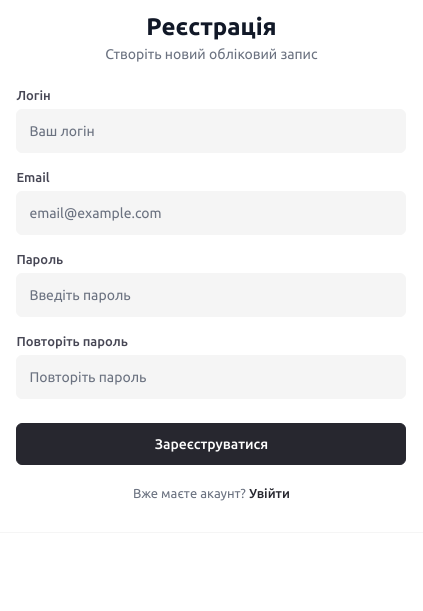
Registration › не реєструє користувача із зайнятим email
Type "testuser" into the field labelled "Логін" at (211, 131), box [16, 109, 406, 153]
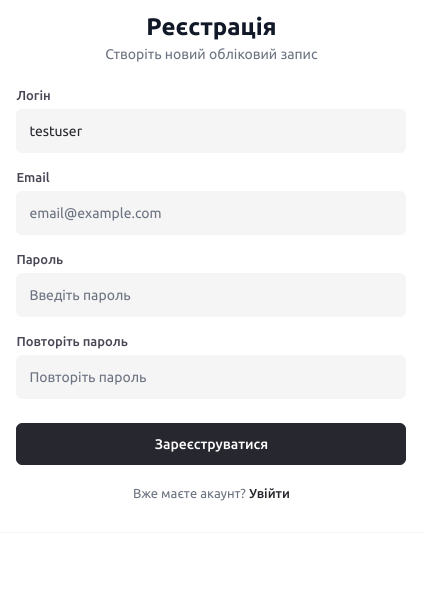
Type "test@example.com" into the field labelled "Email" at (211, 213), box [16, 191, 406, 235]
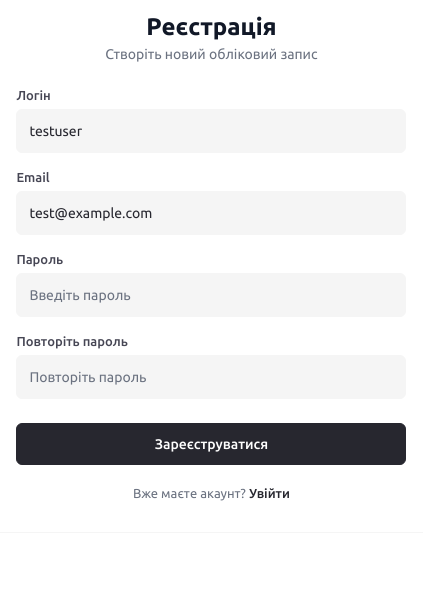
Type "Password123" into the password field labelled "Пароль" at (211, 295), box [16, 273, 406, 317]
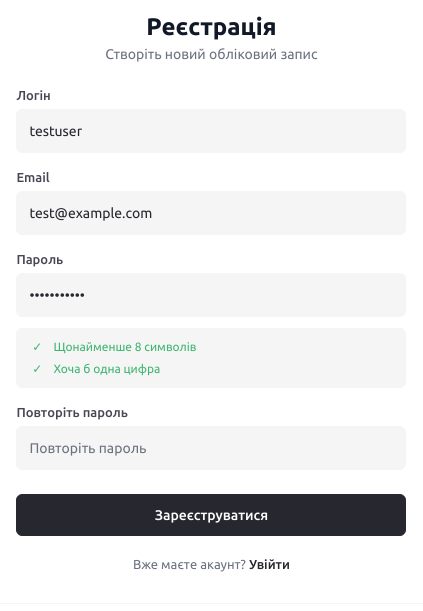
Type "Password123" into the password field labelled "Повторіть пароль" at (211, 448), box [16, 426, 406, 470]
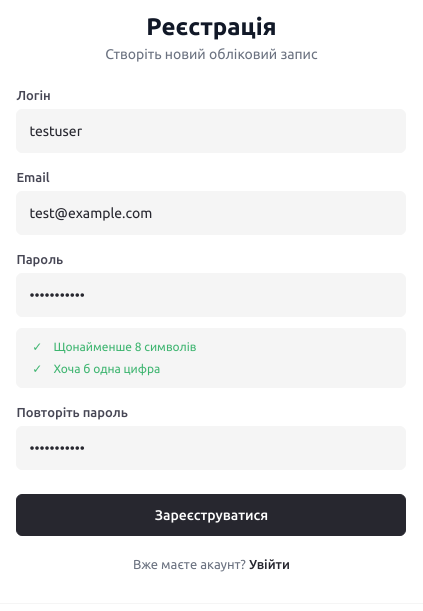
Click the button "Зареєструватися" at (211, 515), box [16, 494, 406, 536]
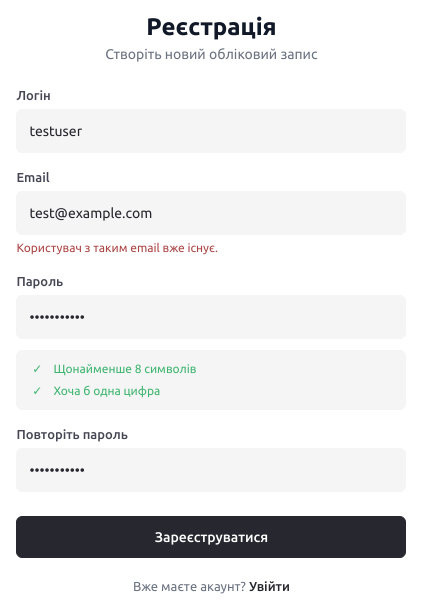
expect the text "Користувач з таким email вже існує." is shown: met, box [16, 241, 218, 254]
